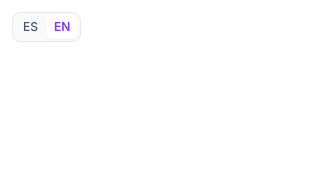
Componente LanguageToggle › restablece el idioma a ES al hacer clic en ES
Click the button "ES": (30, 27) left=15, top=15, right=46, bottom=39
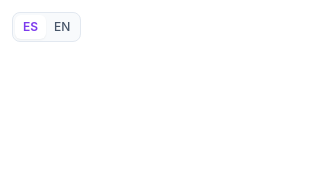
Result: the button "ES" is pressed at left=15, top=15, right=46, bottom=39
